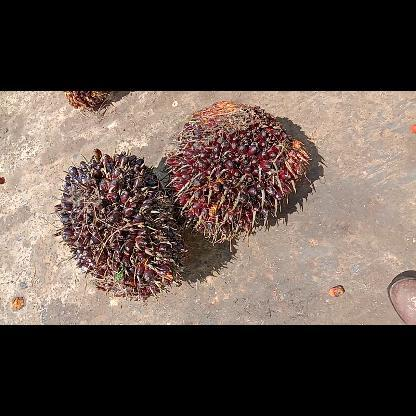TBS mentah: (162, 100, 310, 242), (51, 148, 188, 298)
